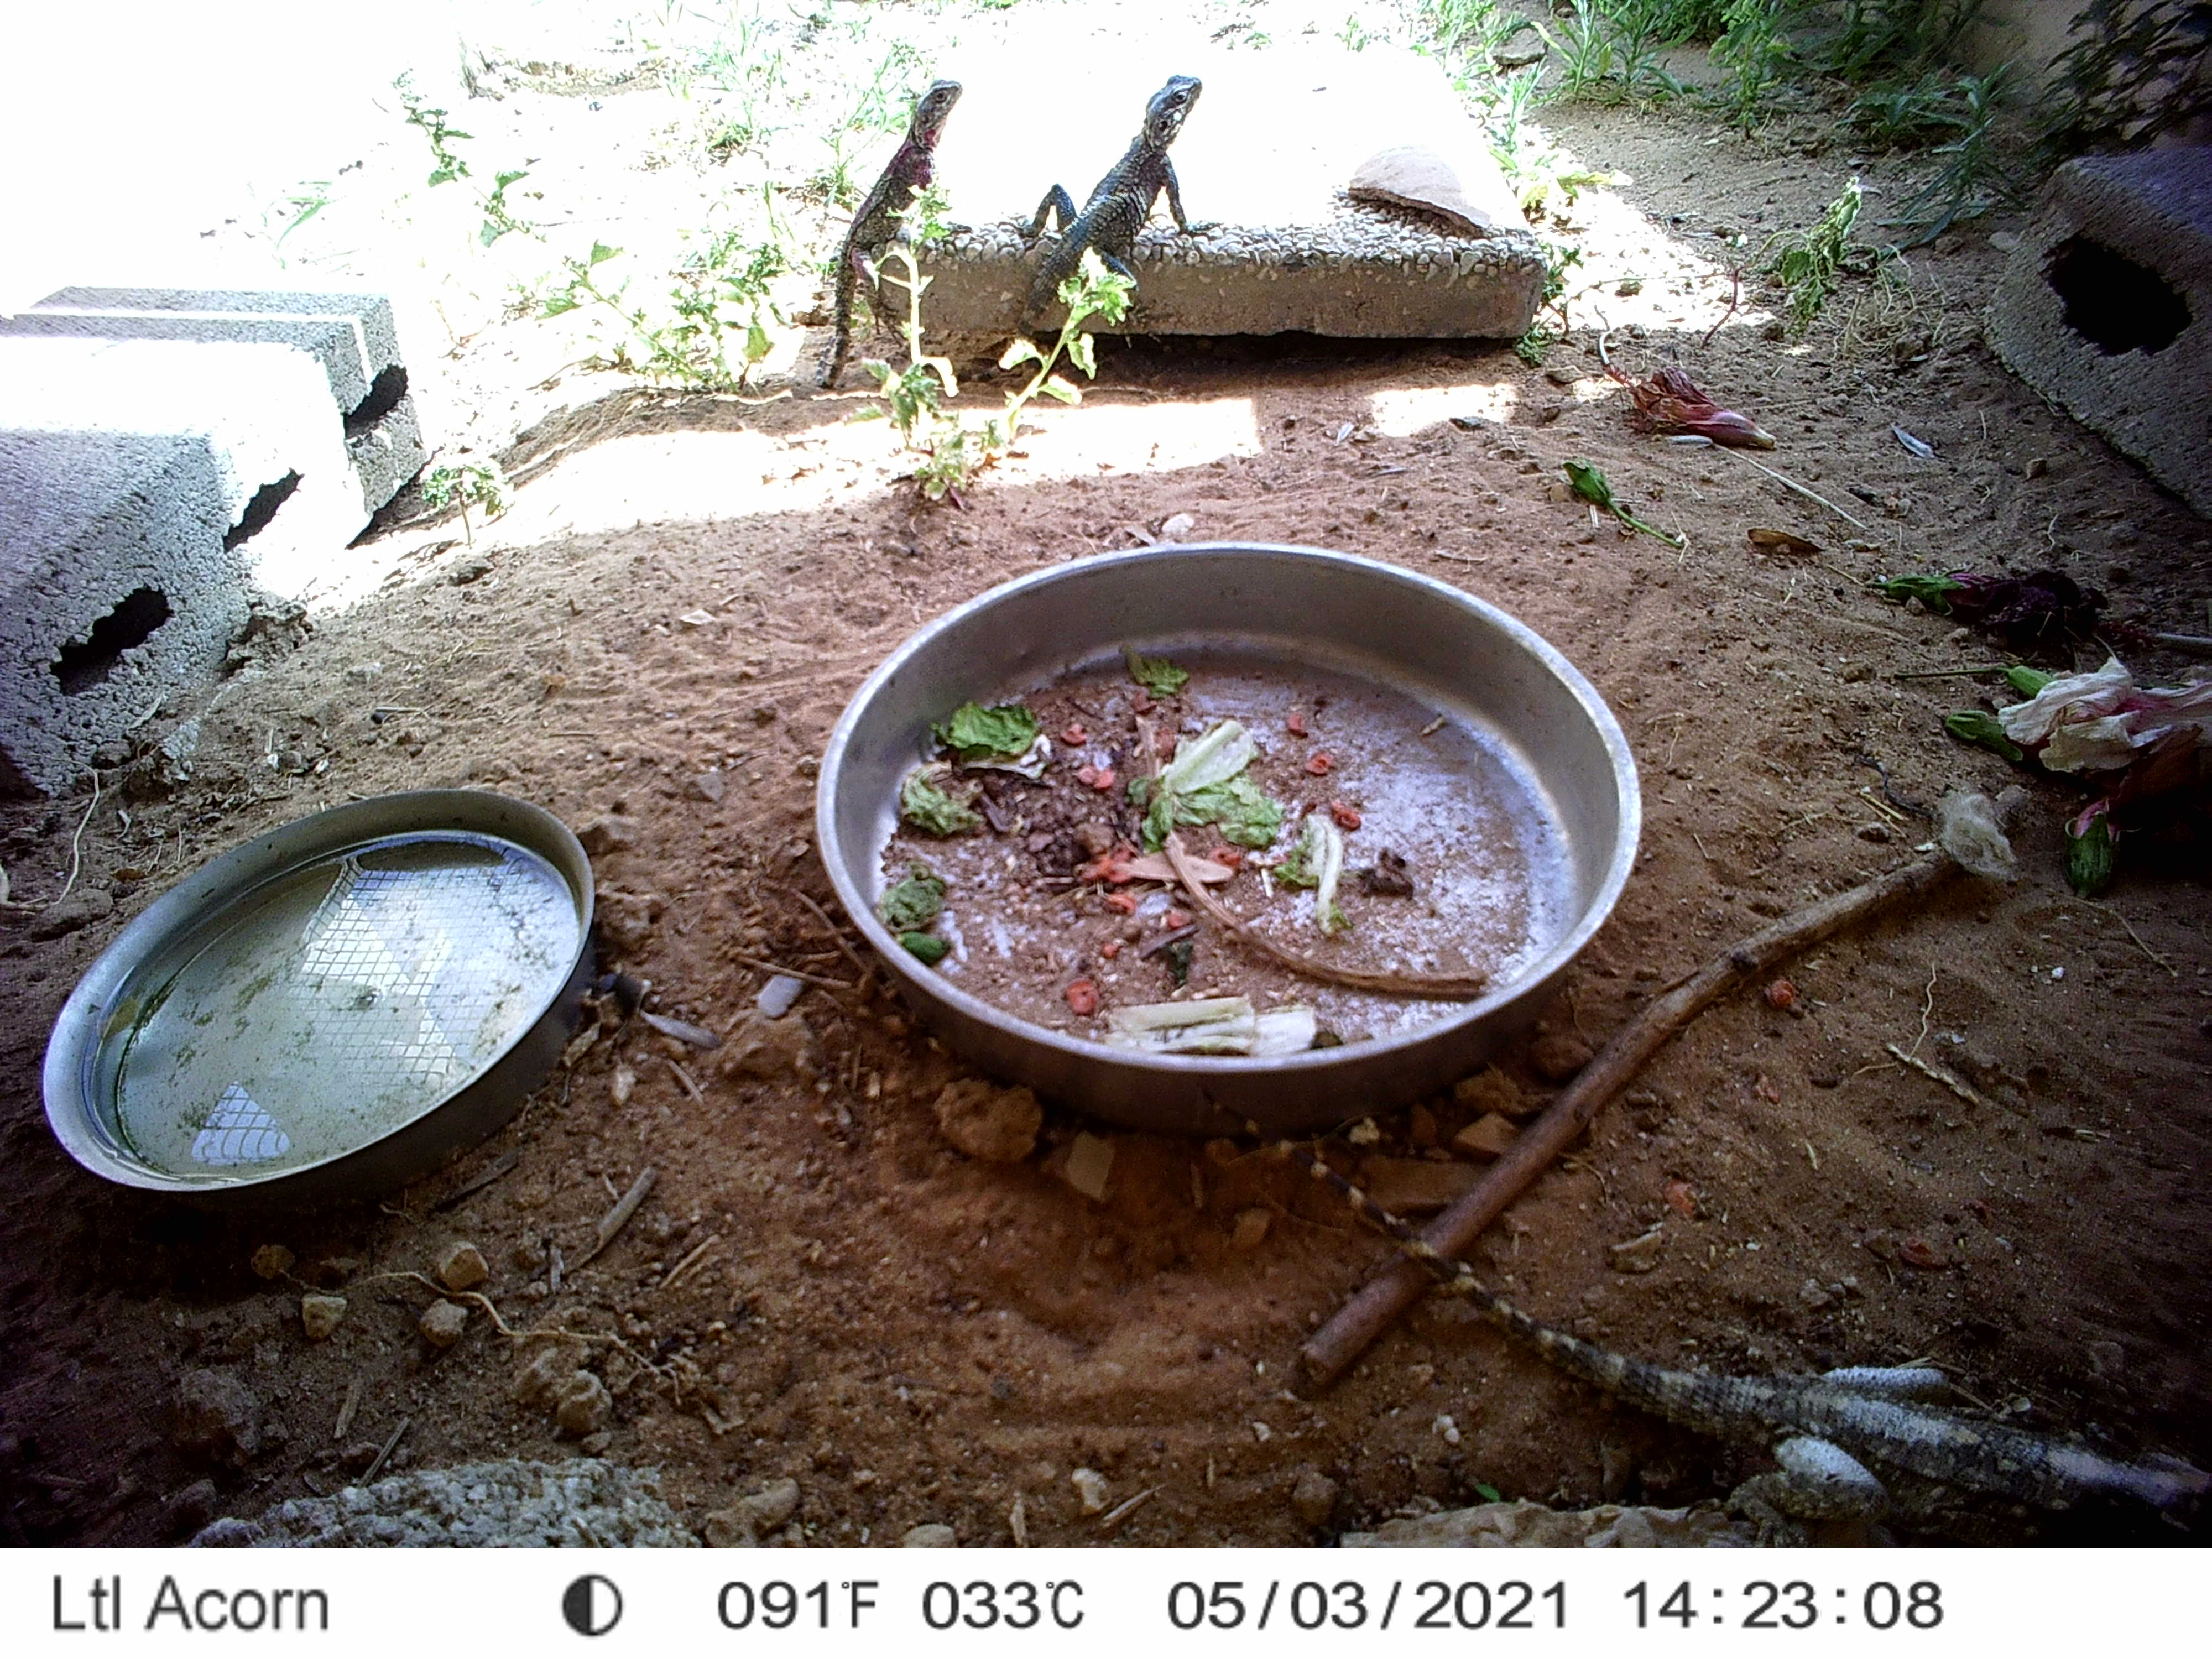lizard: (1197, 1091, 2212, 1544), (984, 75, 1214, 415), (808, 75, 963, 399)
